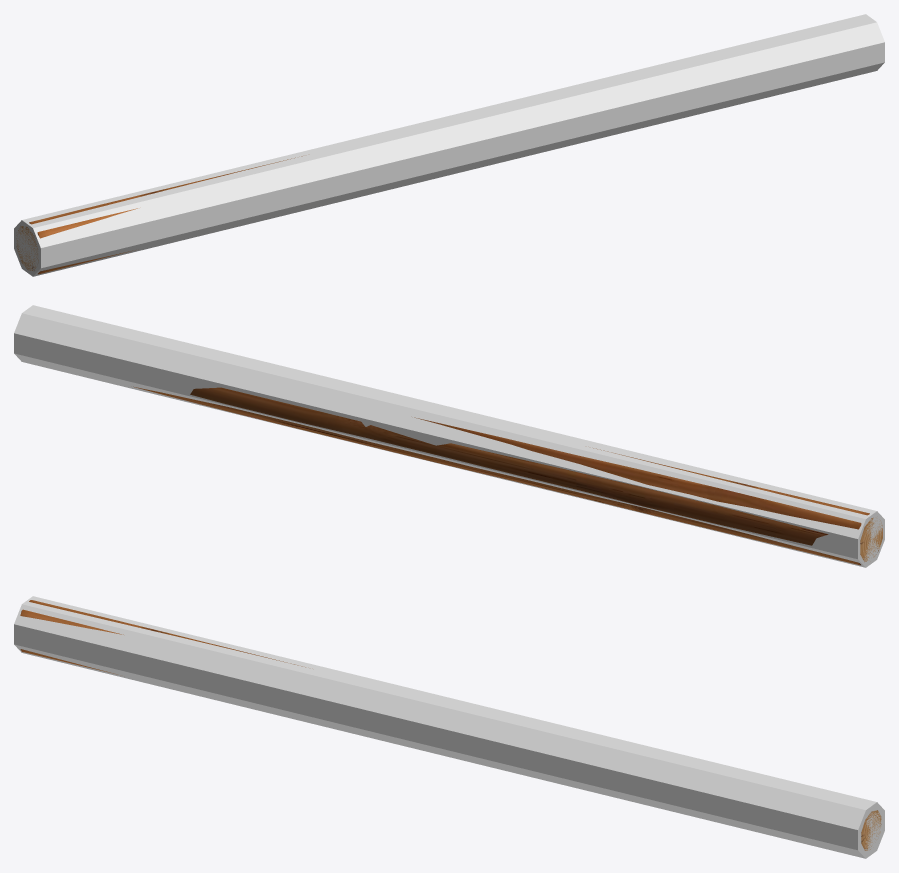
The model's file is IO_Pole_Long_A.glb.
The picture shows the model from 3 angles, top to bottom: view 1: azimuth 30°, elevation 25°; view 2: azimuth 150°, elevation 25°; view 3: azimuth 330°, elevation 25°; orthographic projection.
Visible parts, largest first — view 1: IO_Pole_Long_A_COL, IO_Pole_Long_A_LOD0; view 2: IO_Pole_Long_A_COL, IO_Pole_Long_A_LOD0; view 3: IO_Pole_Long_A_COL, IO_Pole_Long_A_LOD0.
Boxes of the visible parts, left/top/right/bottom form: IO_Pole_Long_A_COL: left=14, top=14, right=884, bottom=276; IO_Pole_Long_A_LOD0: left=16, top=156, right=302, bottom=274; IO_Pole_Long_A_COL: left=14, top=305, right=884, bottom=567; IO_Pole_Long_A_LOD0: left=133, top=386, right=882, bottom=565; IO_Pole_Long_A_COL: left=14, top=596, right=884, bottom=858; IO_Pole_Long_A_LOD0: left=20, top=600, right=881, bottom=850.
Size of what is drawn, in the model's own units: 3 by 0.1728 by 0.17.
Materials: 1 (1 with a texture image).
